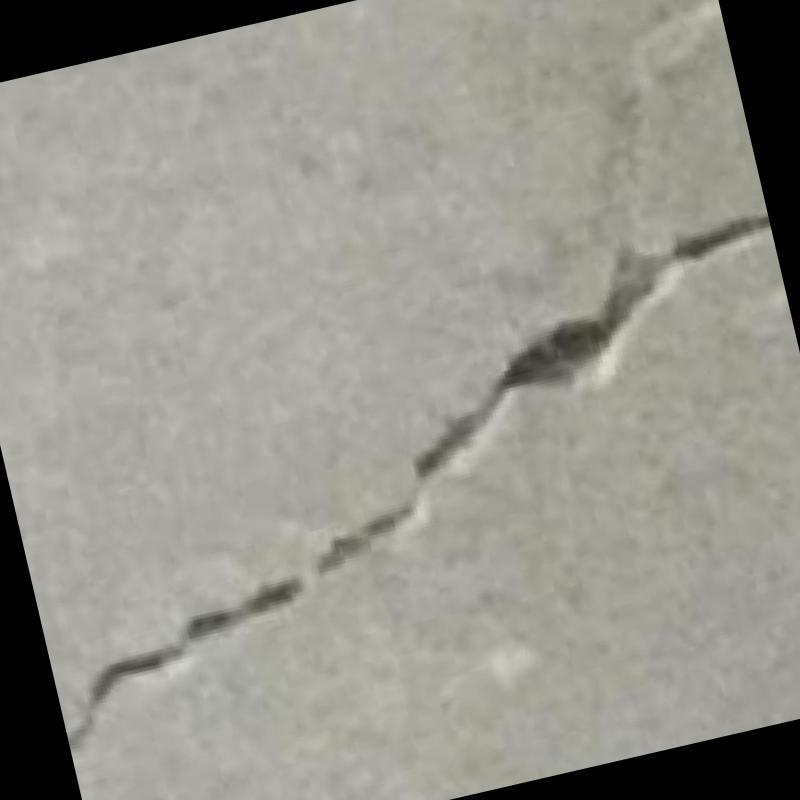pothole: (66, 214, 769, 749)
